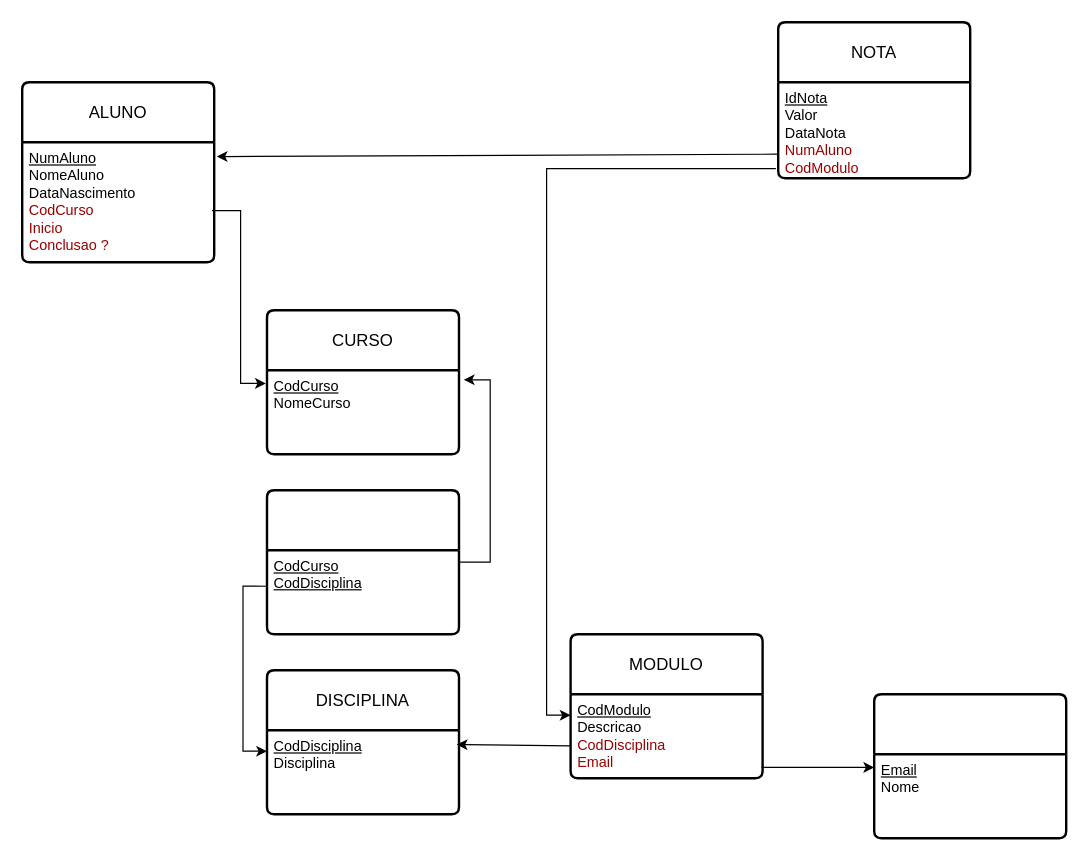
The diagram is 1087 pixels wide and 859 high, and some of its shapes have lost their labels. Here are the shapes that lost their labels. From the top down, the box of each, then its label:
(265, 488, 460, 635): R3
(872, 692, 1067, 839): PROFESSOR
